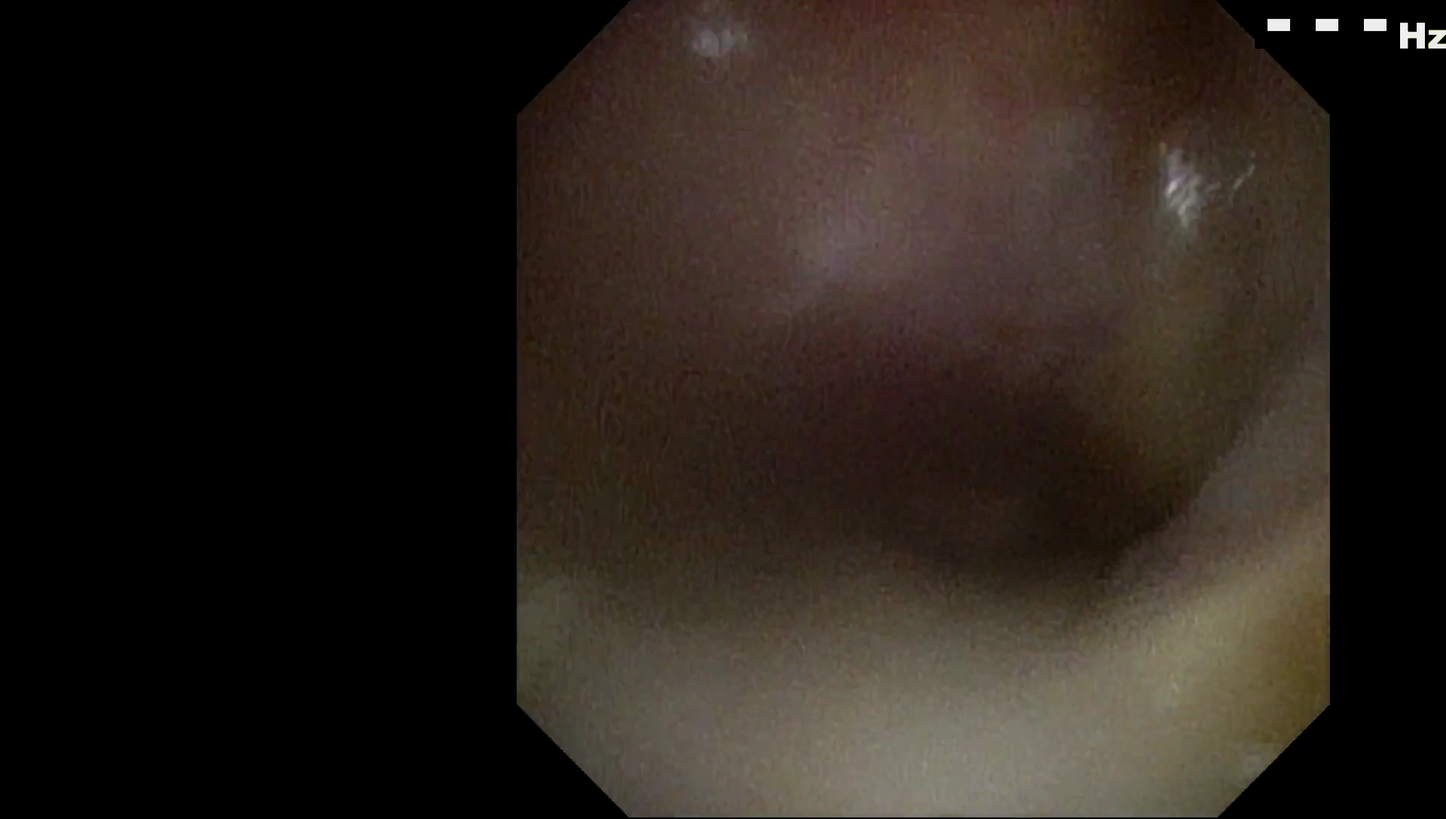next: (918, 346, 1211, 605)
